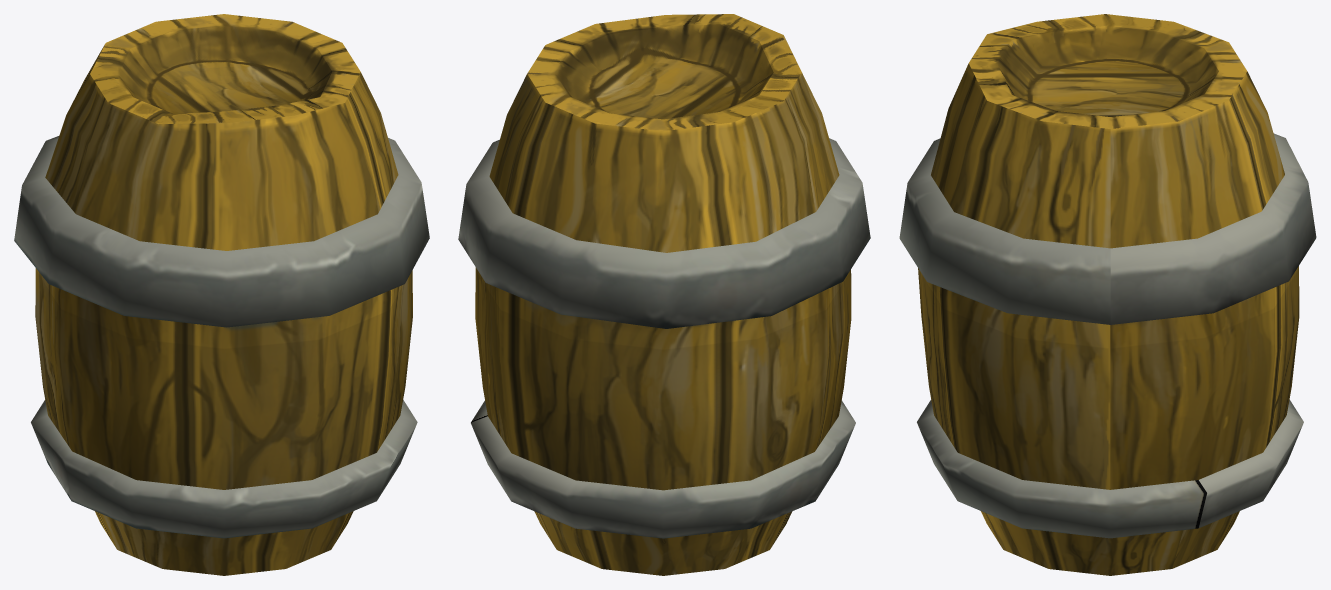
Rendered from barrel.FBX.
The picture shows the model from 3 angles, left to right: view 1: azimuth 30°, elevation 25°; view 2: azimuth 150°, elevation 25°; view 3: azimuth 270°, elevation 25°; orthographic projection.
Visible parts, largest first — view 1: Barrel; view 2: Barrel; view 3: Barrel.
Part boxes in pixels (x1,y1,x2,y2): Barrel: [14, 14, 429, 575]; Barrel: [458, 14, 870, 575]; Barrel: [899, 14, 1316, 575].
Size of the model in its own units: 0.5024 by 0.6201 by 0.5088.
